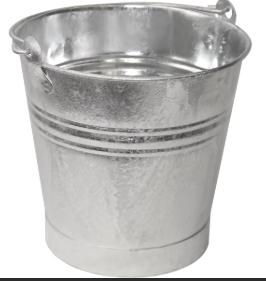SEAU: (7, 0, 266, 281)
